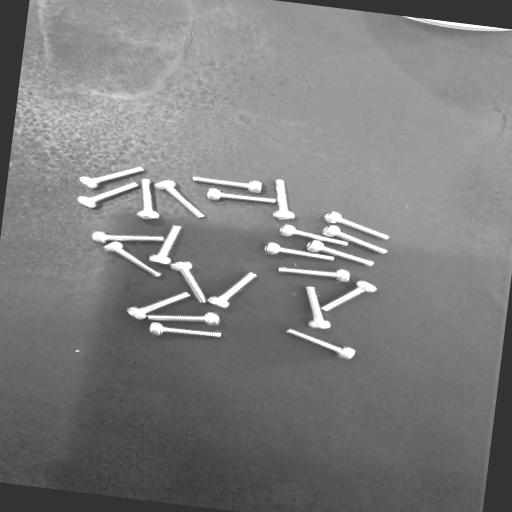Bolt: (104, 242, 161, 277), (287, 330, 355, 359), (155, 180, 205, 218), (322, 226, 387, 254), (324, 212, 388, 240), (208, 272, 256, 308), (322, 281, 377, 311), (307, 241, 373, 266), (127, 293, 190, 319), (78, 183, 139, 208), (279, 224, 347, 246), (79, 167, 145, 189), (171, 262, 205, 303), (265, 242, 333, 260), (149, 226, 181, 264), (150, 322, 221, 338), (207, 188, 276, 204), (193, 177, 262, 193), (278, 267, 350, 282), (306, 286, 330, 329), (92, 231, 164, 244), (137, 179, 159, 219), (273, 180, 295, 220), (148, 313, 220, 325)
